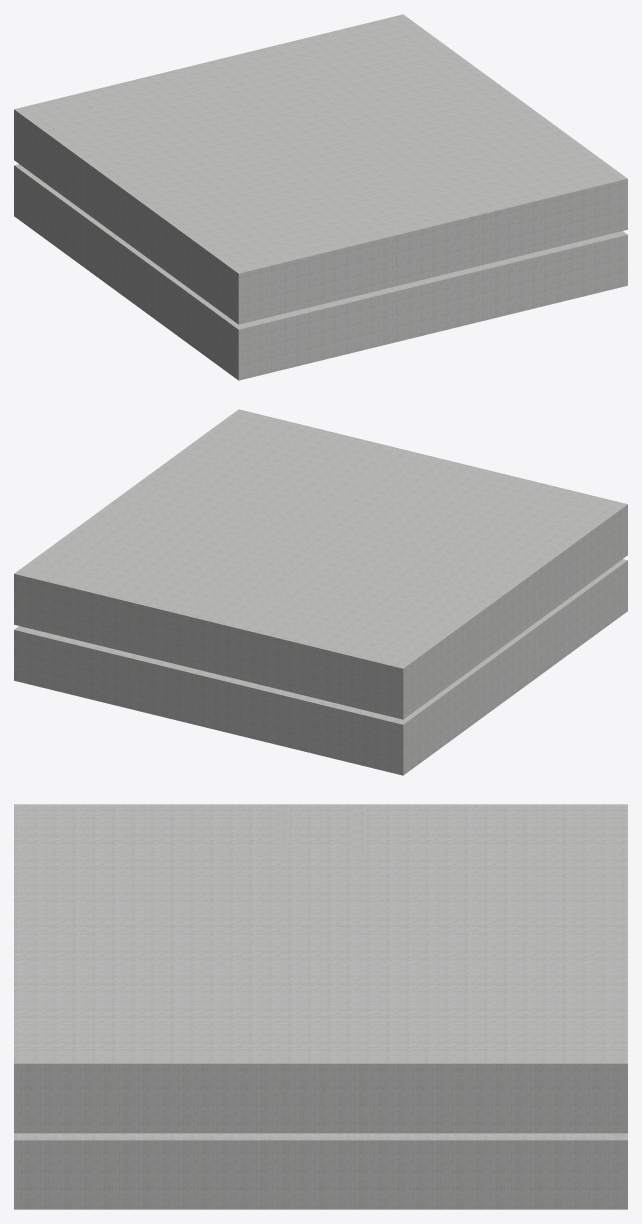
File: Inside.fbx
The picture shows the model from 3 angles, top to bottom: view 1: azimuth 30°, elevation 25°; view 2: azimuth 150°, elevation 25°; view 3: azimuth 270°, elevation 25°; orthographic projection. The views are drawn at different scales.
Parts seen in each view (by area): view 1: Cube; view 2: Cube; view 3: Cube.
Boxes of the visible parts, x1,y1,x2,y2 form: Cube: (14, 14, 627, 380); Cube: (14, 409, 627, 775); Cube: (14, 804, 627, 1209).
Size of the model in its own units: 24 by 6.3 by 24.
